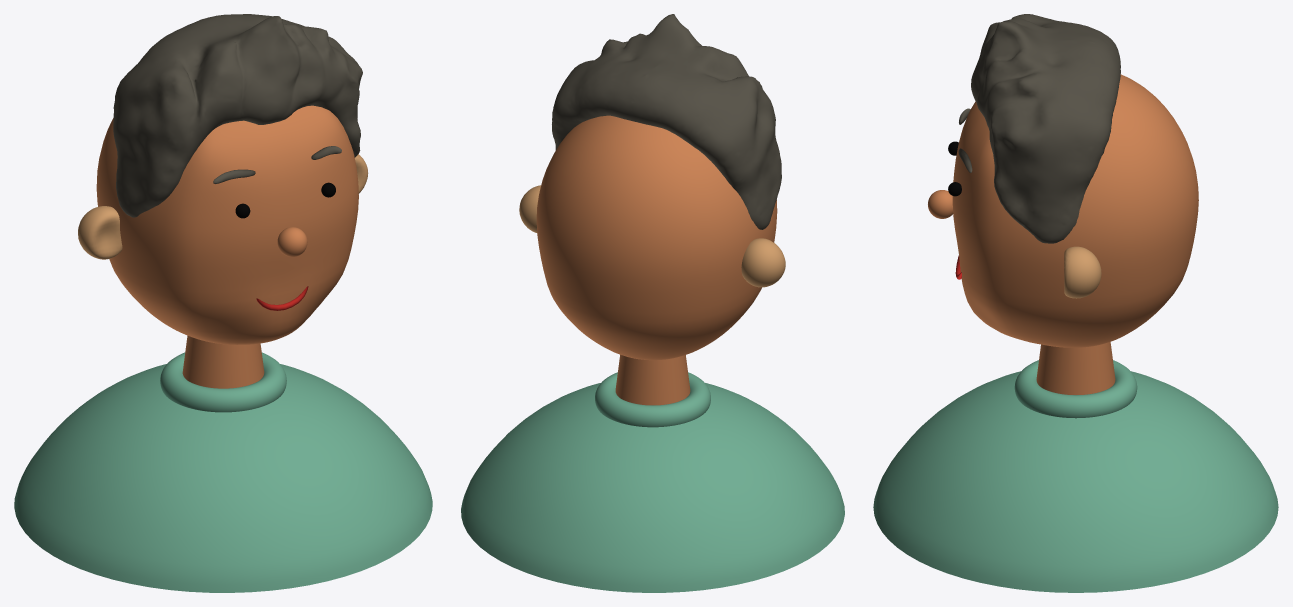
File: boy-full.glb
3 views of the same model, side by side, from view 1: azimuth 30°, elevation 25°; view 2: azimuth 150°, elevation 25°; view 3: azimuth 270°, elevation 25° (orthographic). The views are drawn at different scales.
Parts seen in each view (by area): view 1: Body, Head, Hair, Collar, Neck, Ears, ShapeKey Face, Nose new; view 2: Body, Head, Hair, Collar, Neck, Ears; view 3: Body, Head, Hair, Collar, Neck, Ears, ShapeKey Face, Nose new.
Part boxes in pixels (<box>): Body: <box>14,364,432,592</box>; Head: <box>96,105,358,344</box>; Hair: <box>113,14,362,217</box>; Collar: <box>160,352,286,412</box>; Neck: <box>182,335,264,388</box>; Ears: <box>78,154,368,259</box>; ShapeKey Face: <box>213,146,341,310</box>; Nose new: <box>277,227,307,256</box>; Body: <box>461,383,844,592</box>; Head: <box>536,115,777,360</box>; Hair: <box>552,14,781,229</box>; Collar: <box>595,372,710,427</box>; Neck: <box>615,354,690,405</box>; Ears: <box>519,185,785,287</box>; Body: <box>873,371,1278,592</box>; Head: <box>952,74,1198,347</box>; Hair: <box>971,14,1120,243</box>; Collar: <box>1014,360,1137,418</box>; Neck: <box>1036,342,1115,394</box>; Ears: <box>1064,246,1101,298</box>; ShapeKey Face: <box>948,108,972,279</box>; Nose new: <box>928,190,953,218</box>.
Bounding box in the file's own units: 1.68 × 2.25 × 1.68.
